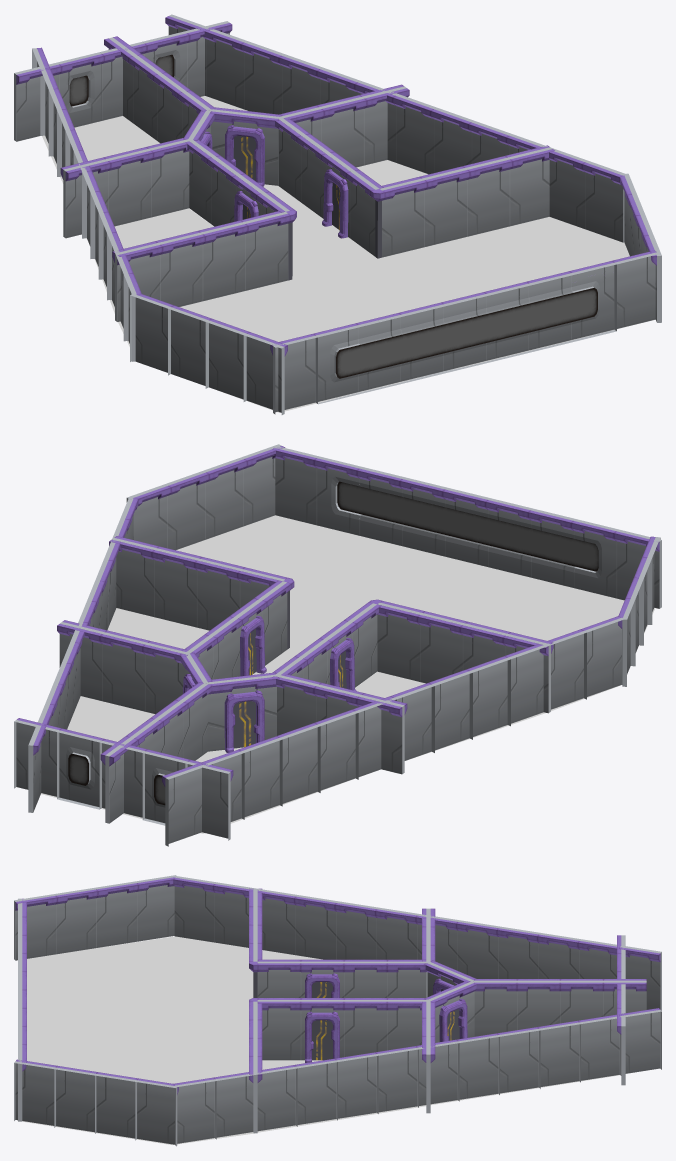
File: Piso1.fbx
3 renders of one model, top to bottom at view 1: azimuth 30°, elevation 25°; view 2: azimuth 150°, elevation 25°; view 3: azimuth 270°, elevation 25°, orthographic. The views are drawn at different scales.
Parts seen in each view (by area): view 1: Plane.004, pared_exterior.247, pared_exterior.241, pared_exterior.008, pared_exterior.245, pared_exterior.006, pared_exterior.239, pared_exterior.243, pared_exterior.184, pared_exterior.004, pared_exterior.312, pared_exterior.291 (+49 smaller); view 2: Plane.004, pared_exterior.159, pared_exterior.167, pared_exterior.163, pared_exterior.239, pared_exterior.241, pared_exterior.275, pared_exterior.247, pared_exterior.288, pared_exterior.008, pared_exterior.006, pared_exterior.245 (+52 smaller); view 3: Plane.004, pared_exterior.191, pared_exterior.205, pared_exterior.202, pared_exterior.258, pared_exterior.196, pared_exterior.259, pared_exterior.224, pared_exterior.195, pared_exterior.203, pared_exterior.211, pared_exterior.188 (+39 smaller).
Part boxes in pixels (left/top/right/bottom): Plane.004: left=118, top=184, right=653, bottom=412; pared_exterior.247: left=443, top=294, right=488, bottom=372; pared_exterior.241: left=486, top=283, right=530, bottom=362; pared_exterior.008: left=529, top=273, right=573, bottom=352; pared_exterior.245: left=358, top=315, right=402, bottom=393; pared_exterior.006: left=401, top=304, right=445, bottom=383; pared_exterior.239: left=571, top=262, right=616, bottom=341; pared_exterior.243: left=316, top=325, right=360, bottom=404; pared_exterior.184: left=205, top=320, right=246, bottom=401; pared_exterior.004: left=614, top=252, right=658, bottom=330; pared_exterior.312: left=243, top=211, right=288, bottom=290; pared_exterior.291: left=422, top=168, right=467, bottom=246; Plane.004: left=176, top=515, right=655, bottom=711; pared_exterior.159: left=57, top=730, right=101, bottom=809; pared_exterior.167: left=431, top=671, right=472, bottom=752; pared_exterior.163: left=279, top=724, right=320, bottom=806; pared_exterior.239: left=316, top=456, right=361, bottom=535; pared_exterior.241: left=402, top=477, right=447, bottom=556; pared_exterior.275: left=102, top=632, right=147, bottom=711; pared_exterior.247: left=445, top=488, right=490, bottom=566; pared_exterior.288: left=154, top=548, right=199, bottom=627; pared_exterior.008: left=359, top=467, right=404, bottom=546; pared_exterior.006: left=488, top=498, right=532, bottom=577; pared_exterior.245: left=531, top=508, right=575, bottom=587; Plane.004: left=22, top=936, right=254, bottom=1144; pared_exterior.191: left=539, top=1022, right=580, bottom=1088; pared_exterior.205: left=296, top=1060, right=337, bottom=1126; pared_exterior.202: left=377, top=1047, right=418, bottom=1113; pared_exterior.258: left=95, top=1074, right=136, bottom=1140; pared_exterior.196: left=458, top=1035, right=499, bottom=1101; pared_exterior.259: left=136, top=1080, right=177, bottom=1146; pared_exterior.224: left=55, top=1067, right=95, bottom=1132; pared_exterior.195: left=499, top=1029, right=540, bottom=1093; pared_exterior.203: left=337, top=1054, right=377, bottom=1118; pared_exterior.211: left=175, top=1079, right=215, bottom=1145; pared_exterior.188: left=620, top=1010, right=661, bottom=1075.
Bounding box in the file's own units: 2337 × 301 × 3002.
3 materials, 3 textured.
